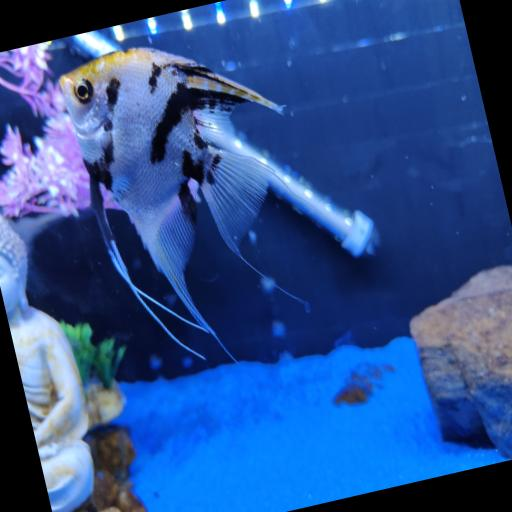Fish: (59, 49, 281, 340)
